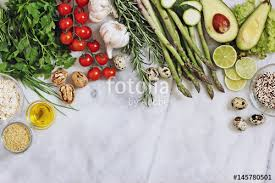Onion: (100, 21, 129, 48)
Tomato: (95, 51, 110, 66), (59, 18, 75, 31), (77, 27, 92, 40), (80, 53, 93, 66), (87, 67, 100, 80), (61, 31, 73, 45), (58, 4, 71, 14)
